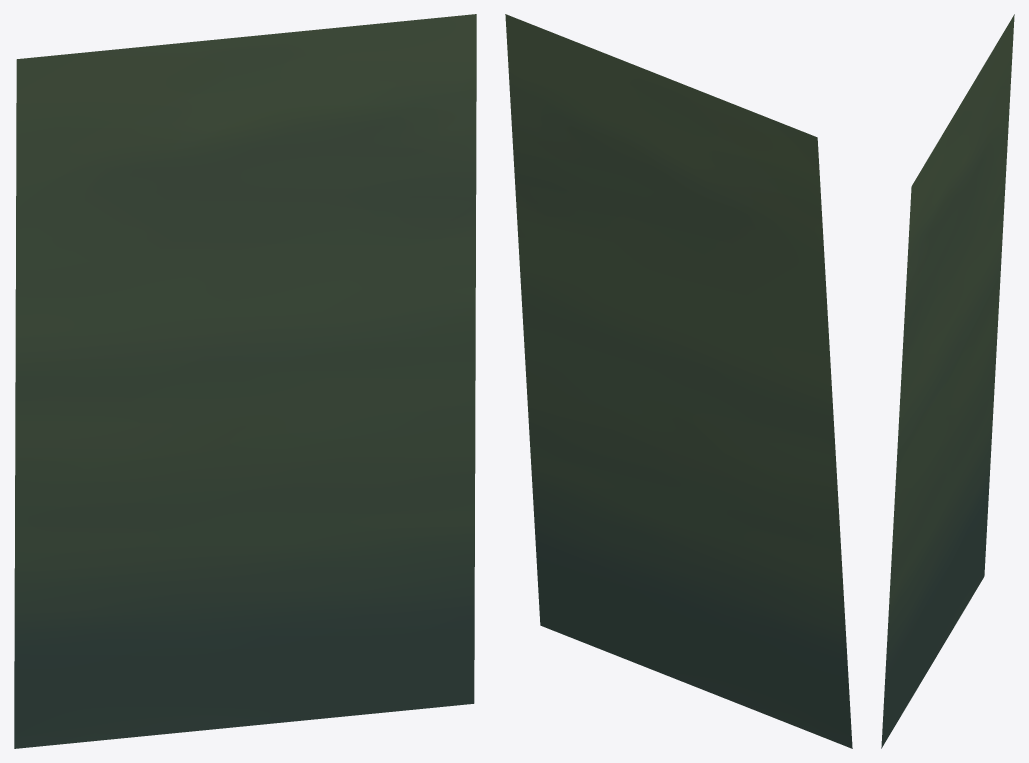
Rendered from pplane145_lambert6_0_lev2.glb.
The picture shows the model from 3 angles, left to right: view 1: azimuth 30°, elevation 25°; view 2: azimuth 150°, elevation 25°; view 3: azimuth 270°, elevation 25°; orthographic projection. The views are drawn at different scales.
Visible parts, largest first — view 1: pplane145_lambert6_0_lev2; view 2: pplane145_lambert6_0_lev2; view 3: pplane145_lambert6_0_lev2.
Part boxes in pixels (bbox=[...]): pplane145_lambert6_0_lev2: bbox=[14, 14, 476, 748]; pplane145_lambert6_0_lev2: bbox=[505, 14, 852, 748]; pplane145_lambert6_0_lev2: bbox=[881, 14, 1014, 748].
Bounding box in the file's own units: 0.1021 × 0.158 × 0.033.
1 material, 1 textured.
